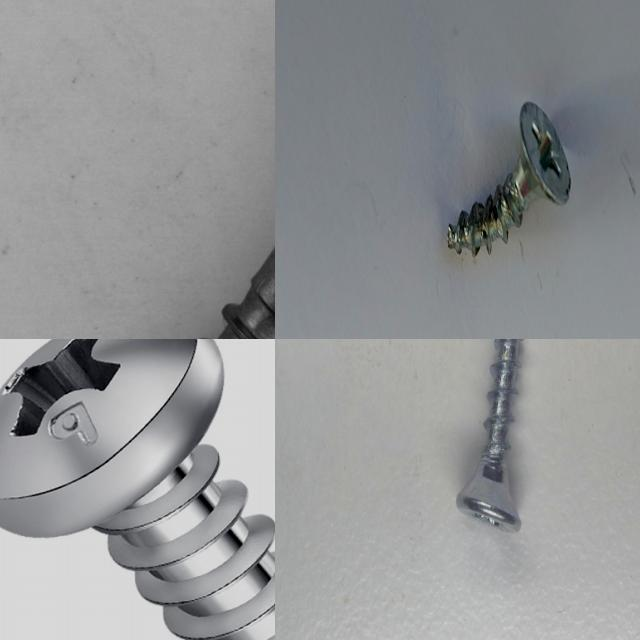Screw: (0, 339, 275, 640), (62, 19, 275, 339), (447, 101, 570, 257), (456, 339, 521, 532)
